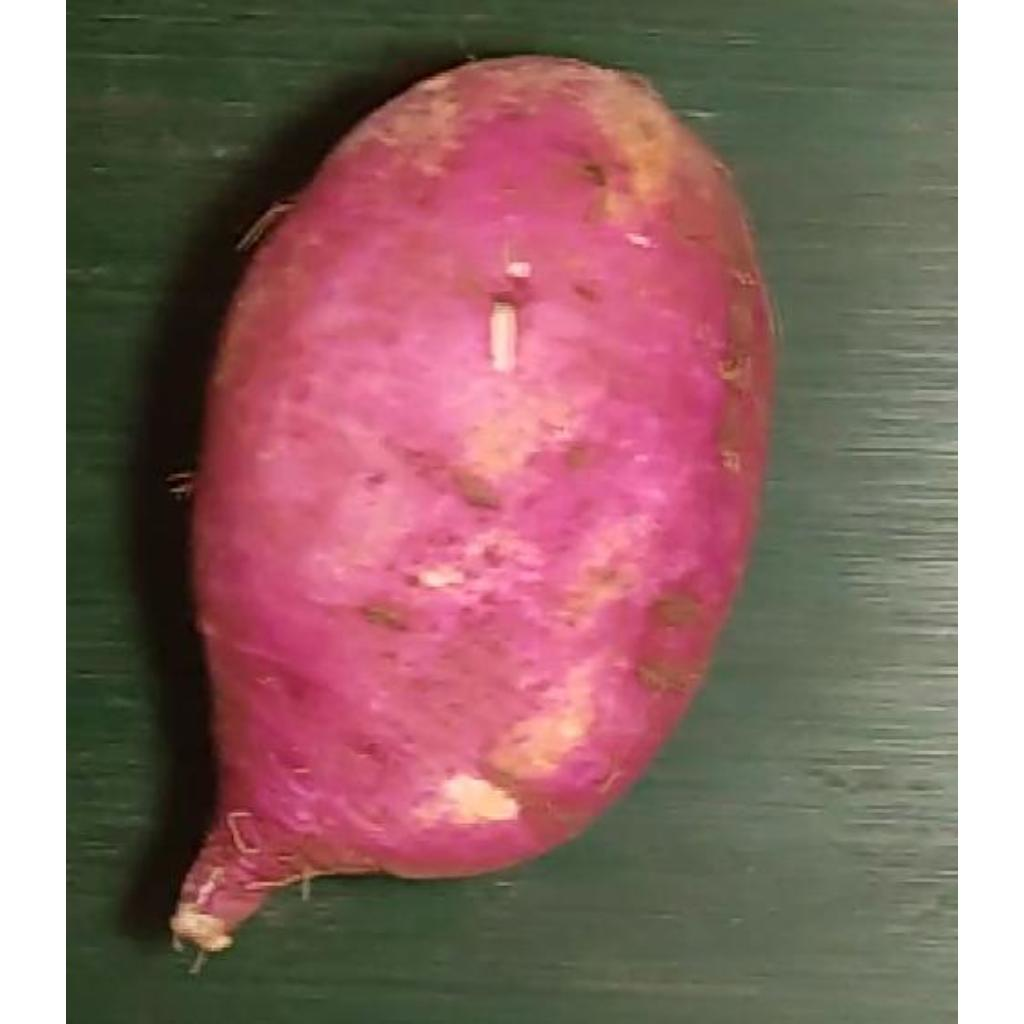Sweet Potato: (174, 56, 778, 958)
